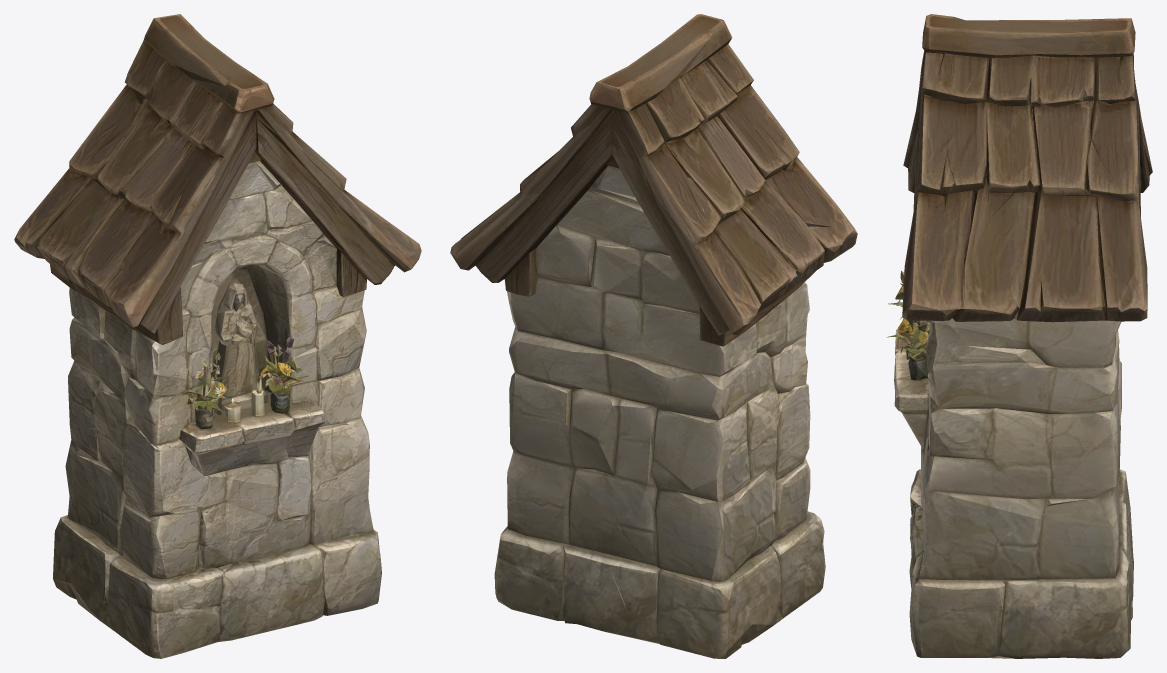
Rendered from poi_shrine.glb.
The picture shows the model from 3 angles, left to right: view 1: azimuth 30°, elevation 25°; view 2: azimuth 150°, elevation 25°; view 3: azimuth 270°, elevation 25°; orthographic projection. The views are drawn at different scales.
Visible parts, largest first — view 1: poi_shrine; view 2: poi_shrine; view 3: poi_shrine.
Boxes of the visible parts, x1=… form: poi_shrine: x1=14, y1=14, x2=421, y2=658; poi_shrine: x1=450, y1=14, x2=857, y2=658; poi_shrine: x1=886, y1=14, x2=1152, y2=658.
Bounding box in the file's own units: 1.49 × 2.6 × 1.09.
1 material, 1 textured.
